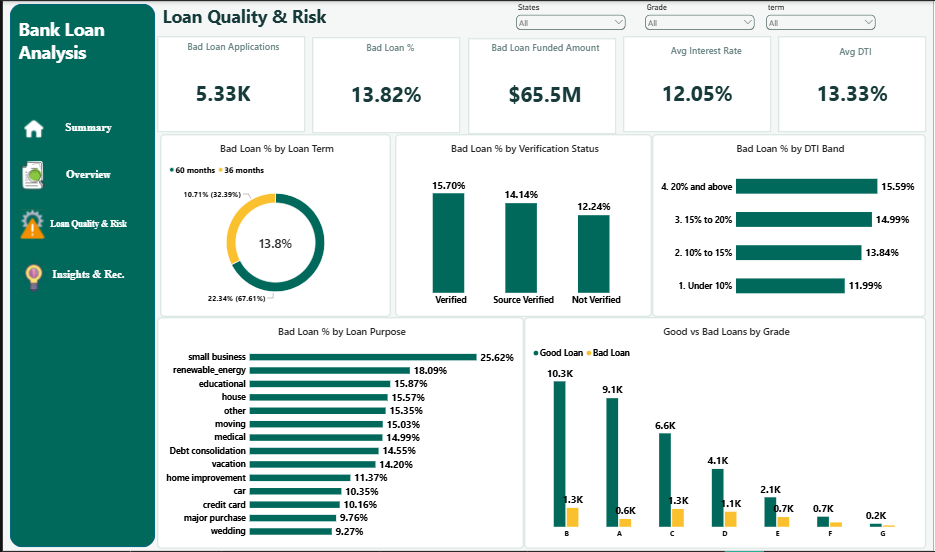

Layout of this report page (visuals, bound fields, positions):
{"tool":"powerbi","page":{"name":"Loan Quality & Risk","canvas":[2037,1199],"ordinal":2},"visuals":[{"type":"shape","box":[11,0,326.4,1198.1],"z":0},{"type":"shape","box":[24.4,22.2,302.2,131.1],"z":1000},{"type":"shape","box":[337.8,75.6,325,211.1],"z":2000},{"type":"shape","box":[371.1,75.6,268.9,42.2],"z":3000},{"type":"cardVisual","fields":{"Data":["bank_loan_data.Bad Loan Applications"]},"box":[390.1,163.1,184.4,71.1],"z":4000},{"type":"shape","box":[677.8,76.7,325,211.1],"z":5000},{"type":"shape","box":[714.4,76.7,268.9,42.2],"z":6000},{"type":"cardVisual","fields":{"Data":["bank_loan_data.Bad Loan %"]},"box":[740.6,163.1,197.8,77.8],"z":7000},{"type":"shape","box":[1017.8,77.8,325,211.1],"z":8000},{"type":"shape","box":[1044.8,76.7,286.9,43.8],"z":9000},{"type":"cardVisual","fields":{"Data":["bank_loan_data.Bad Loan Funded Amount"]},"box":[1066.7,164.3,240.9,72.3],"z":10000},{"type":"shape","box":[1357.8,75.6,325,211.1],"z":11000},{"type":"shape","box":[1405.6,83.3,268.9,42.2],"z":12000},{"type":"cardVisual","fields":{"Data":["bank_loan_data.Avg Interest Rate"]},"box":[1421.6,163.1,197.8,71.1],"z":13000},{"type":"shape","box":[1697.8,75.6,325,211.1],"z":14000},{"type":"shape","box":[1732.5,84.4,268.9,42.2],"z":15000},{"type":"cardVisual","fields":{"Data":["bank_loan_data.Avg DTI"]},"box":[1763.3,163.1,193.3,71.1],"z":16000},{"type":"shape","box":[343.9,0,396.4,74.5],"z":17000},{"type":"slicer","fields":{"Values":["bank_loan_data.address_state"]},"box":[1120,2.2,248.9,68.9],"z":18000},{"type":"clusteredColumnChart","title":"Good vs Bad Loans by Grade","fields":{"Category":["bank_loan_data.Grade"],"Series":["bank_loan_data.Loan Category"],"Y":["bank_loan_data.Total Loan Applications"]},"box":[1141.2,690,880.5,508.2],"z":19000},{"type":"slicer","fields":{"Values":["bank_loan_data.grade"]},"box":[1402.2,2.2,248.9,68.9],"z":20000},{"type":"slicer","fields":{"Values":["bank_loan_data.term"]},"box":[1666.7,2.2,248.9,68.9],"z":21000},{"type":"donutChart","title":"Bad Loan % by Loan Term","fields":{"Category":["bank_loan_data.term"],"Y":["bank_loan_data.Bad Loan %"]},"box":[343.9,289.1,506,400.8],"z":22000},{"type":"clusteredBarChart","title":"Bad Loan % by Loan Purpose","fields":{"Category":["bank_loan_data.purpose"],"Y":["bank_loan_data.Bad Loan %"]},"box":[337.3,690,803.8,508.2],"z":23000},{"type":"barChart","title":"Bad Loan % by DTI Band","fields":{"Category":["bank_loan_data.DTI Band"],"Y":["bank_loan_data.Bad Loan %"]},"box":[1421.5,289.1,600.1,400.8],"z":24000},{"type":"columnChart","title":"Bad Loan % by Verification Status","fields":{"Category":["bank_loan_data.verification_status"],"Y":["bank_loan_data.Bad Loan %"]},"box":[858.6,289.1,562.9,400.8],"z":25000},{"type":"actionButton","box":[24.1,234.4,302.3,85.4],"z":26000},{"type":"actionButton","box":[24.1,337.3,302.3,85.4],"z":27000},{"type":"actionButton","box":[24.1,444.6,302.3,85.4],"z":28000},{"type":"actionButton","box":[24.1,556.3,302.3,85.4],"z":29000}]}

Visuals, with their boxes on the page's 2037x1199 design canvas (x1, y1, x2, y2). These are canvas units, not pixel positions in the 935x552 screenshot, which may show the page scaled, cropped or inside an application window:
shape: Rect(11, 0, 337, 1198)
shape: Rect(24, 22, 327, 153)
shape: Rect(338, 76, 663, 287)
shape: Rect(371, 76, 640, 118)
cardVisual - bank_loan_data.Bad Loan Applications: Rect(390, 163, 574, 234)
shape: Rect(678, 77, 1003, 288)
shape: Rect(714, 77, 983, 119)
cardVisual - bank_loan_data.Bad Loan %: Rect(741, 163, 938, 241)
shape: Rect(1018, 78, 1343, 289)
shape: Rect(1045, 77, 1332, 120)
cardVisual - bank_loan_data.Bad Loan Funded Amount: Rect(1067, 164, 1308, 237)
shape: Rect(1358, 76, 1683, 287)
shape: Rect(1406, 83, 1674, 126)
cardVisual - bank_loan_data.Avg Interest Rate: Rect(1422, 163, 1619, 234)
shape: Rect(1698, 76, 2023, 287)
shape: Rect(1732, 84, 2001, 127)
cardVisual - bank_loan_data.Avg DTI: Rect(1763, 163, 1957, 234)
shape: Rect(344, 0, 740, 74)
slicer - bank_loan_data.address_state: Rect(1120, 2, 1369, 71)
"Good vs Bad Loans by Grade" clusteredColumnChart: Rect(1141, 690, 2022, 1198)
slicer - bank_loan_data.grade: Rect(1402, 2, 1651, 71)
slicer - bank_loan_data.term: Rect(1667, 2, 1916, 71)
"Bad Loan % by Loan Term" donutChart: Rect(344, 289, 850, 690)
"Bad Loan % by Loan Purpose" clusteredBarChart: Rect(337, 690, 1141, 1198)
"Bad Loan % by DTI Band" barChart: Rect(1422, 289, 2022, 690)
"Bad Loan % by Verification Status" columnChart: Rect(859, 289, 1422, 690)
actionButton: Rect(24, 234, 326, 320)
actionButton: Rect(24, 337, 326, 423)
actionButton: Rect(24, 445, 326, 530)
actionButton: Rect(24, 556, 326, 642)
